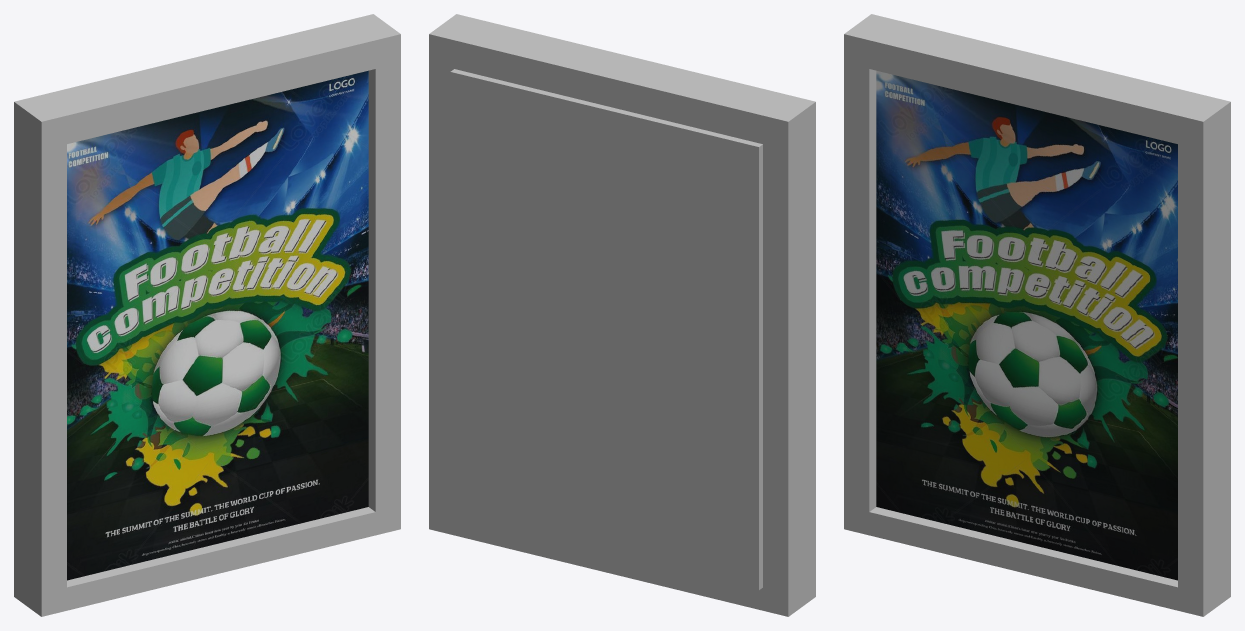
3 views of the same model, side by side, from view 1: azimuth 30°, elevation 25°; view 2: azimuth 150°, elevation 25°; view 3: azimuth 330°, elevation 25° (orthographic).
Parts seen in each view (by area): view 1: 포스터.001; view 2: 포스터.001; view 3: 포스터.001.
Part boxes in pixels (x1,y1,x2,y2): 포스터.001: [14, 14, 400, 616]; 포스터.001: [429, 14, 815, 616]; 포스터.001: [844, 14, 1230, 616].
Size of the model in its own units: 234 by 308 by 35.52.
